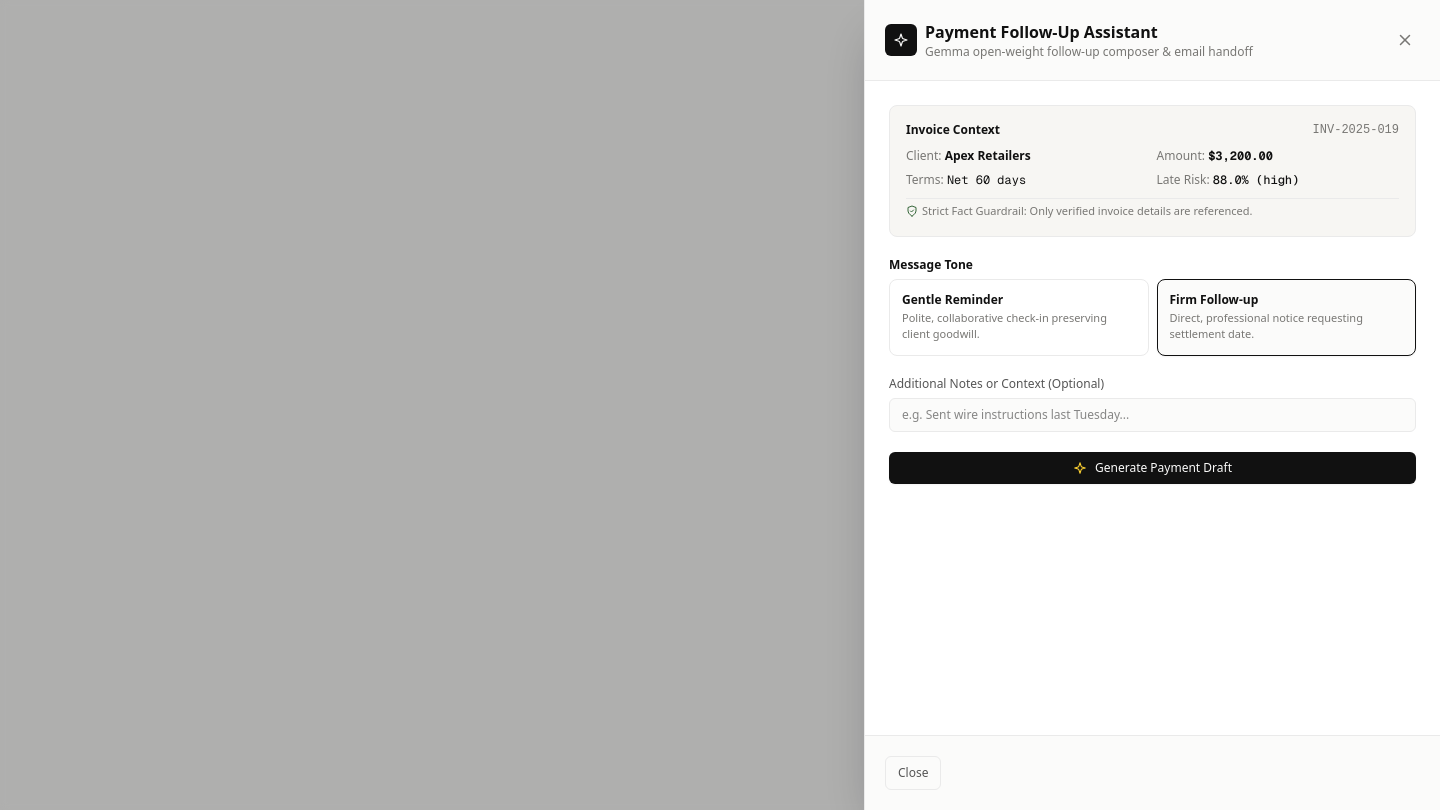
Scenario: FollowupComposerDrawer › displays backend error cleanly when generation fails
Step 1. Click the button "Generate Payment Draft" → (1152, 468), box [889,452,1416,484]
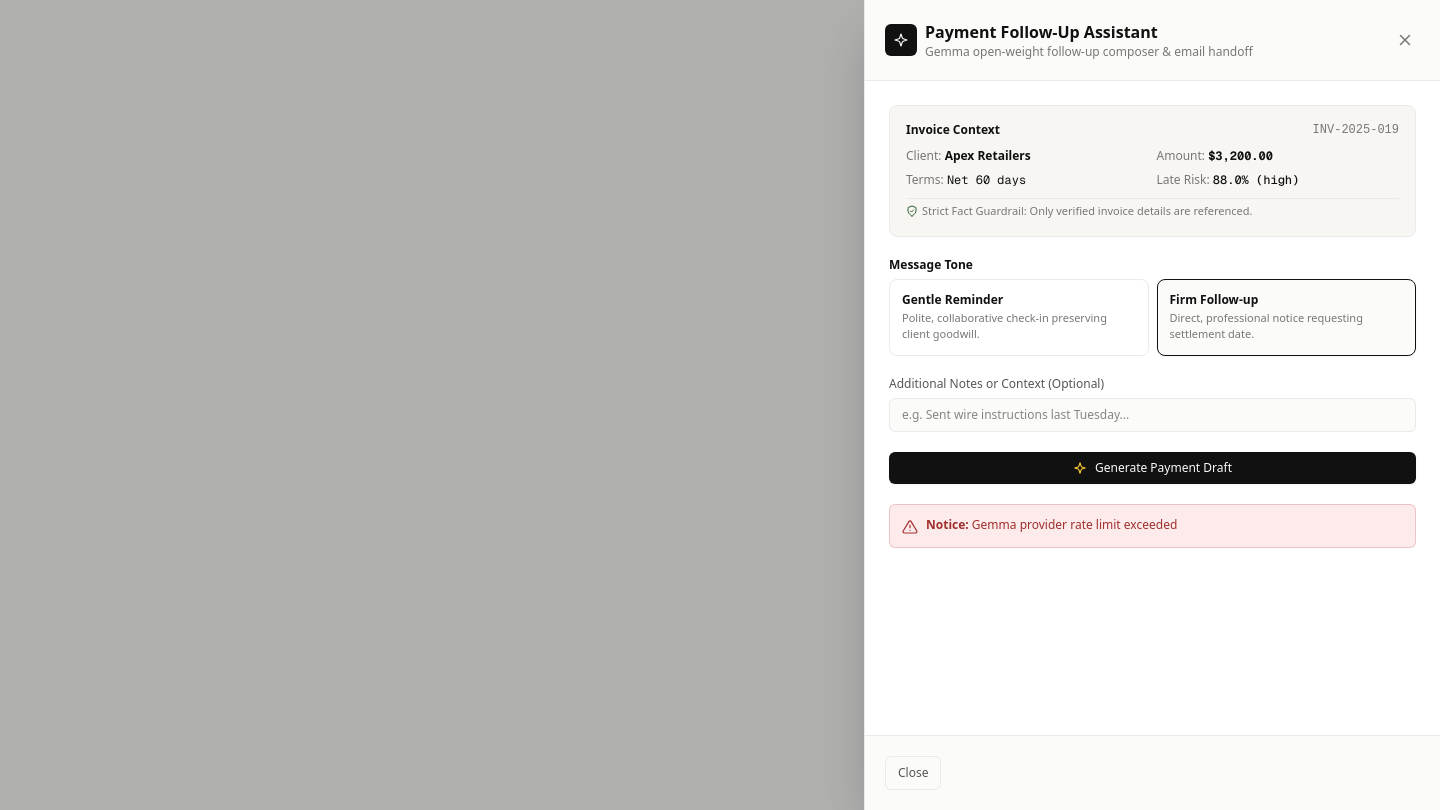
Expected: the text "Gemma provider rate limit exceeded" is shown, [972,516,1177,532]
